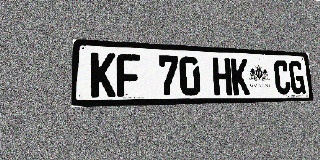0: (179, 56, 200, 96)
7: (157, 55, 180, 96)
C: (273, 60, 291, 94)
F: (116, 53, 140, 97)
G: (288, 61, 306, 94)
H: (212, 57, 232, 95)
K: (90, 52, 116, 97), (231, 58, 250, 95)
